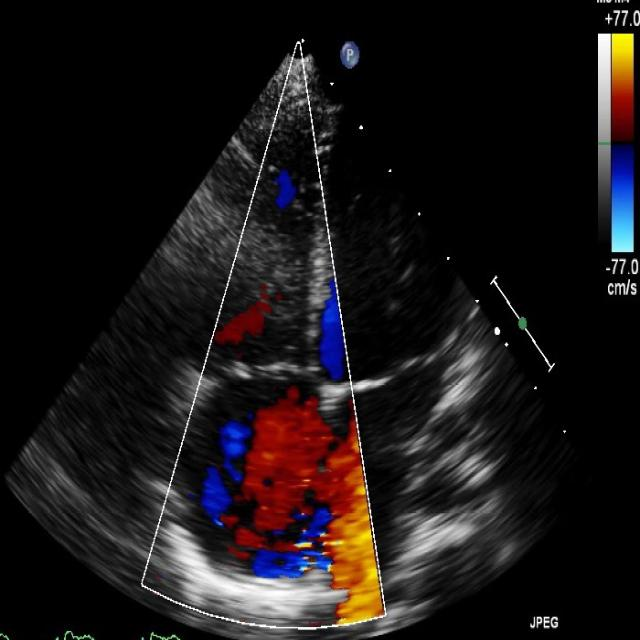ASDType2: (248, 382, 388, 624)
